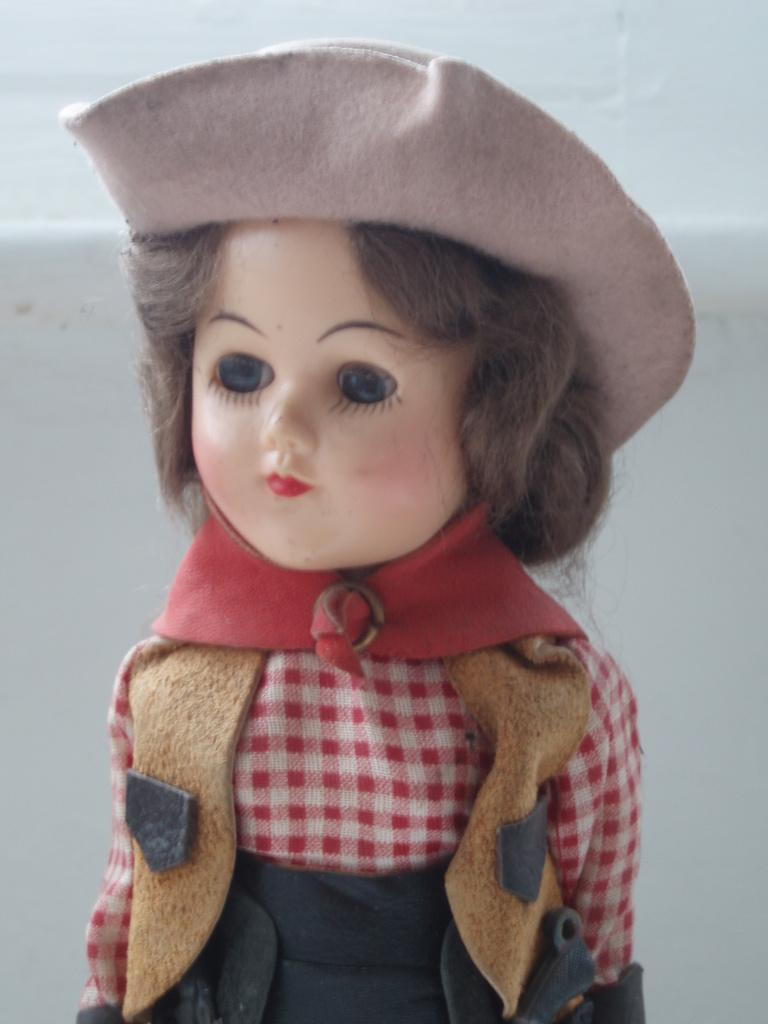Hat: (56, 34, 696, 454)
